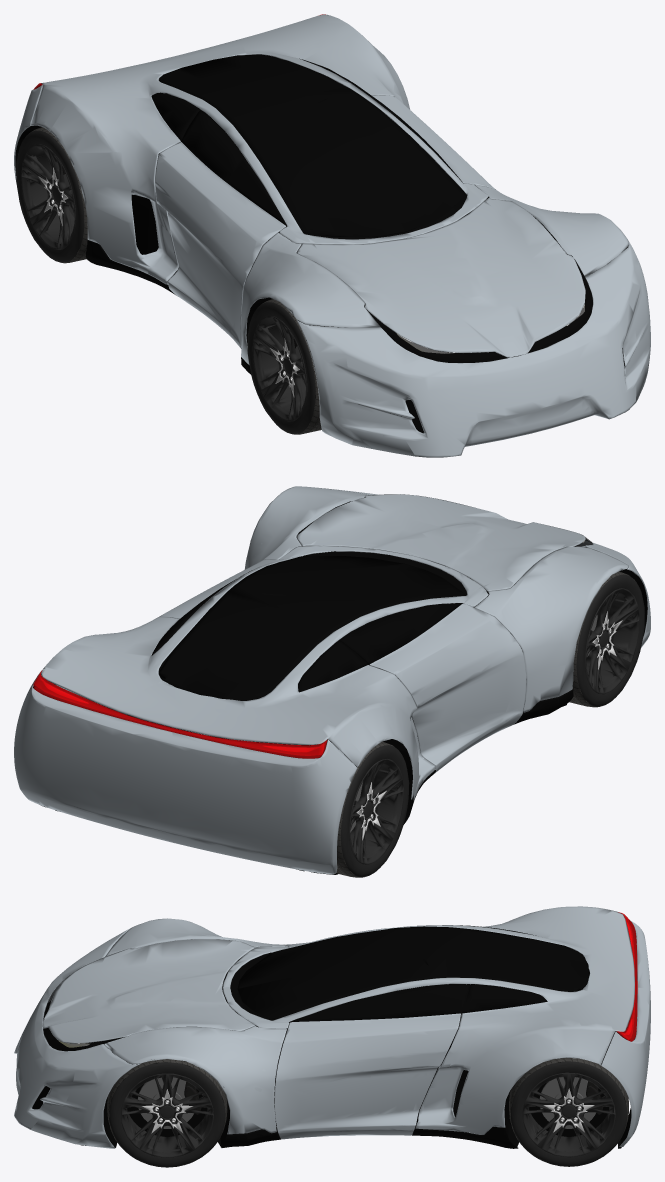
Rendered from c025_lite.glb.
3 views of the same model, one above another, from view 1: azimuth 30°, elevation 25°; view 2: azimuth 150°, elevation 25°; view 3: azimuth 270°, elevation 25° (orthographic). The views are drawn at different scales.
Parts seen in each view (by area): view 1: Cube.050_body_color_supra.002_0, Cube.046_body_color_supra.002_0, Cube.042_plasticShiny.001_0, Cube.043_body_color_supra.002_0, Cube.047_body_color_supra.002_0, Cube.049_body_color_supra.002_0, Cube.057_plasticShiny.001_0, Cube.039_blockers_0, rim_235.001_rims_0, rim_235.002_rims_0, tire_v001_Coll.001|Mesh5.004|Dupli|_rubber___tires.001_0, tire_v001_Coll.003|Mesh5.004|Dupli|_rubber___tires.001_0 (+2 smaller); view 2: Cube.048_body_color_supra.002_0, Cube.046_body_color_supra.002_0, Cube.042_plasticShiny.001_0, Cube.047_body_color_supra.002_0, Cube.049_body_color_supra.002_0, Cube.043_body_color_supra.002_0, Cube.057_plasticShiny.001_0, rim_235.001_rims_0, rim_235.002_rims_0, Cube.045_taillight_cover_0, tire_v001_Coll.001|Mesh5.004|Dupli|_rubber___tires.001_0, tire_v001_Coll.003|Mesh5.004|Dupli|_rubber___tires.001_0 (+7 smaller); view 3: Cube.046_body_color_supra.002_0, Cube.042_plasticShiny.001_0, Cube.047_body_color_supra.002_0, Cube.043_body_color_supra.002_0, Cube.049_body_color_supra.002_0, Cube.050_body_color_supra.002_0, Cube.057_plasticShiny.001_0, rim_235_rims_0, rim_235.003_rims_0, Cube.048_body_color_supra.002_0, Cube.039_blockers_0, tire_v001_Coll|Mesh5.004|Dupli|_rubber___tires.001_0 (+12 smaller).
Boxes of the visible parts, bbox=[...] form: Cube.050_body_color_supra.002_0: bbox=[296, 239, 650, 457]; Cube.046_body_color_supra.002_0: bbox=[30, 14, 488, 284]; Cube.042_plasticShiny.001_0: bbox=[159, 54, 465, 237]; Cube.043_body_color_supra.002_0: bbox=[297, 198, 585, 357]; Cube.047_body_color_supra.002_0: bbox=[155, 95, 494, 348]; Cube.049_body_color_supra.002_0: bbox=[240, 185, 628, 364]; Cube.057_plasticShiny.001_0: bbox=[151, 58, 462, 225]; Cube.039_blockers_0: bbox=[131, 55, 592, 433]; rim_235.001_rims_0: bbox=[252, 316, 314, 421]; rim_235.002_rims_0: bbox=[21, 144, 75, 249]; tire_v001_Coll.001|Mesh5.004|Dupli|_rubber___tires.001_0: bbox=[247, 302, 315, 434]; tire_v001_Coll.003|Mesh5.004|Dupli|_rubber___tires.001_0: bbox=[16, 130, 84, 262]; Cube.048_body_color_supra.002_0: bbox=[14, 682, 357, 874]; Cube.046_body_color_supra.002_0: bbox=[31, 545, 488, 801]; Cube.042_plasticShiny.001_0: bbox=[159, 555, 465, 700]; Cube.047_body_color_supra.002_0: bbox=[159, 559, 526, 774]; Cube.049_body_color_supra.002_0: bbox=[244, 486, 628, 712]; Cube.043_body_color_supra.002_0: bbox=[297, 494, 585, 591]; Cube.057_plasticShiny.001_0: bbox=[151, 562, 462, 692]; rim_235.001_rims_0: bbox=[585, 588, 639, 694]; rim_235.002_rims_0: bbox=[349, 759, 403, 864]; Cube.045_taillight_cover_0: bbox=[33, 670, 327, 758]; tire_v001_Coll.001|Mesh5.004|Dupli|_rubber___tires.001_0: bbox=[576, 574, 644, 706]; tire_v001_Coll.003|Mesh5.004|Dupli|_rubber___tires.001_0: bbox=[341, 745, 409, 877]; Cube.046_body_color_supra.002_0: bbox=[223, 906, 634, 1134]; Cube.042_plasticShiny.001_0: bbox=[237, 926, 588, 1020]; Cube.047_body_color_supra.002_0: bbox=[274, 942, 460, 1139]; Cube.043_body_color_supra.002_0: bbox=[42, 939, 254, 1043]; Cube.049_body_color_supra.002_0: bbox=[104, 918, 287, 1134]; Cube.050_body_color_supra.002_0: bbox=[14, 928, 139, 1148]; Cube.057_plasticShiny.001_0: bbox=[290, 925, 547, 1022]; rim_235_rims_0: bbox=[121, 1073, 213, 1157]; rim_235.003_rims_0: bbox=[522, 1072, 615, 1157]; Cube.048_body_color_supra.002_0: bbox=[601, 920, 650, 1146]; Cube.039_blockers_0: bbox=[32, 951, 625, 1136]; tire_v001_Coll|Mesh5.004|Dupli|_rubber___tires.001_0: bbox=[109, 1062, 225, 1167].
Bounding box in the file's own units: 2.07 × 1.04 × 3.98.
14 materials, 1 textured.
